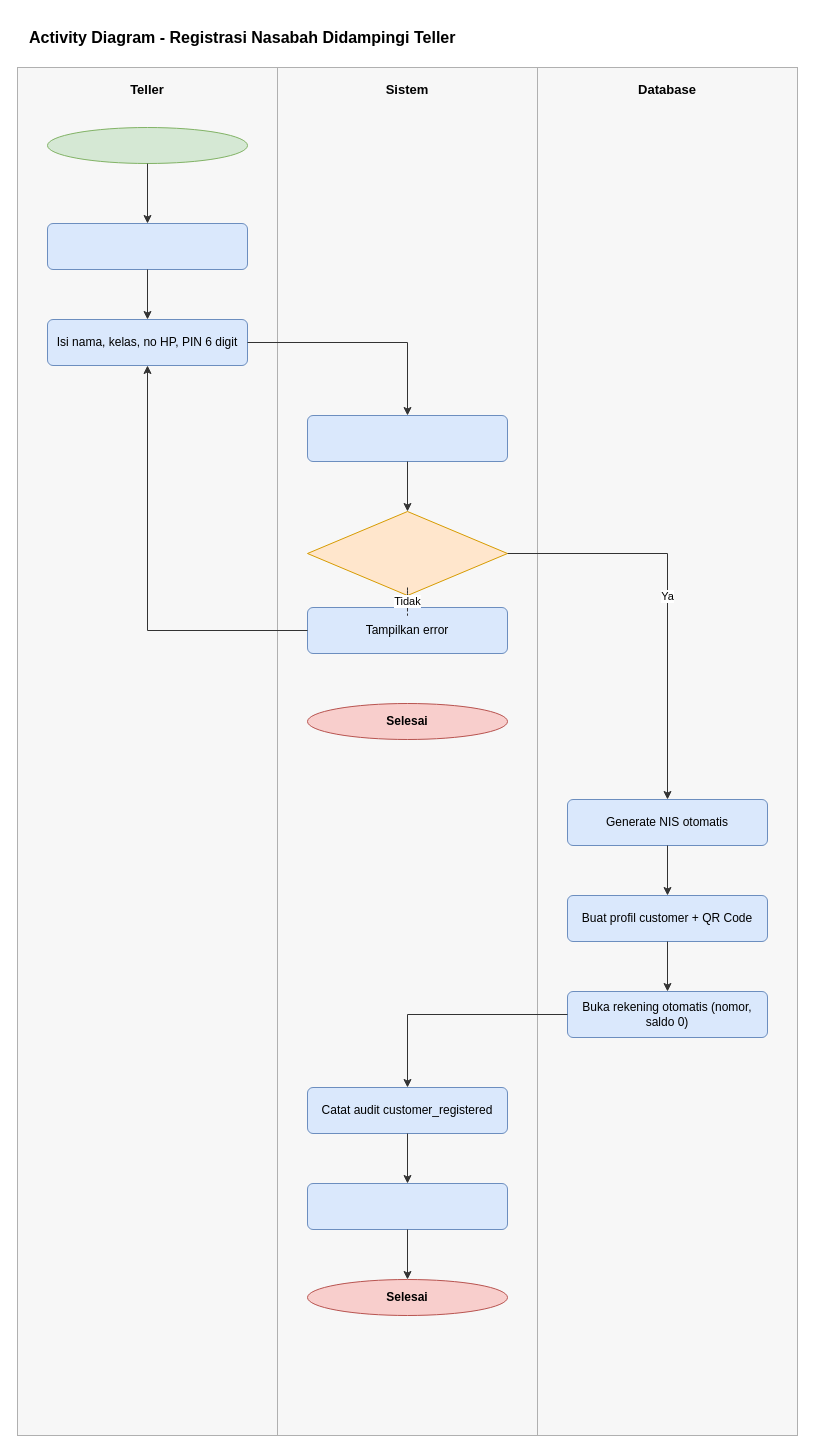
The diagram is 815 pixels wide and 1453 high, and some of its shapes have lost their labels. The centre of each missing label's shape, as x and y in pixels:
"Buka form registrasi nasabah" belongs at (147,246).
"Mulai" belongs at (147,145).
"Tampilkan hasil registrasi (NIS & no rekening)" belongs at (407,1206).
"Valid?" belongs at (407,553).
"Validasi input" belongs at (407,438).
